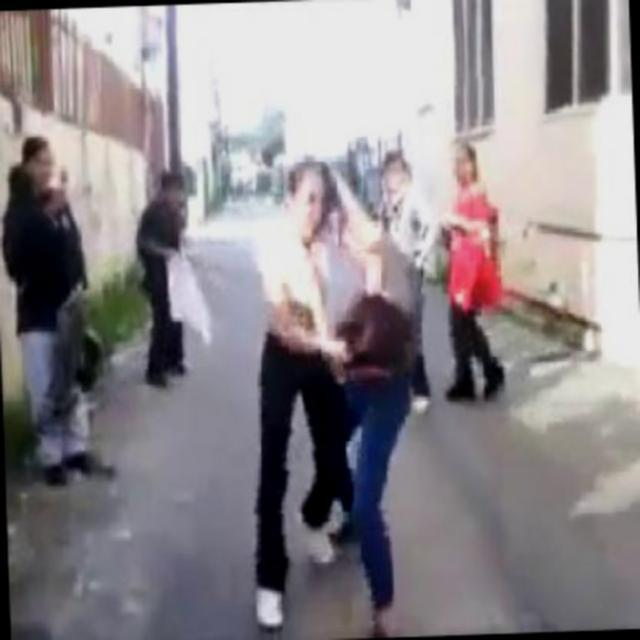fight: (240, 148, 431, 640)
non-fight: (0, 130, 106, 484), (430, 134, 504, 402), (130, 170, 204, 395)
